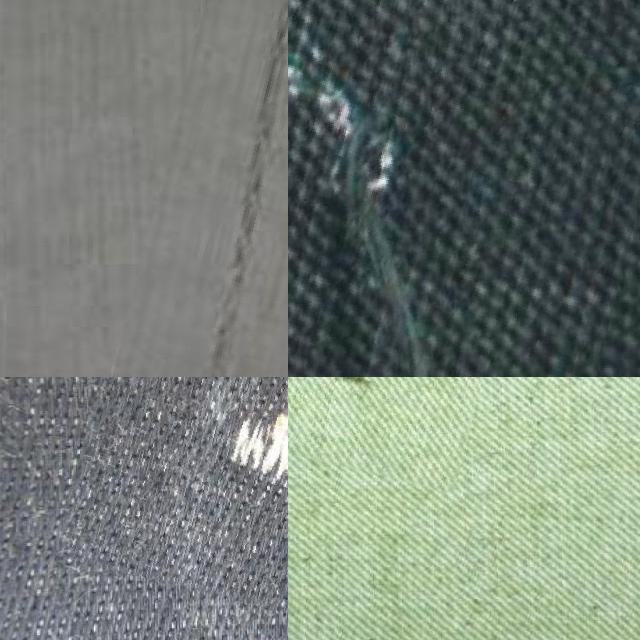stains: (288, 0, 640, 377), (94, 0, 288, 377), (69, 377, 288, 614), (288, 377, 489, 479)
